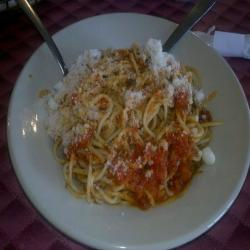bolonese_pasta: (39, 39, 211, 216)
